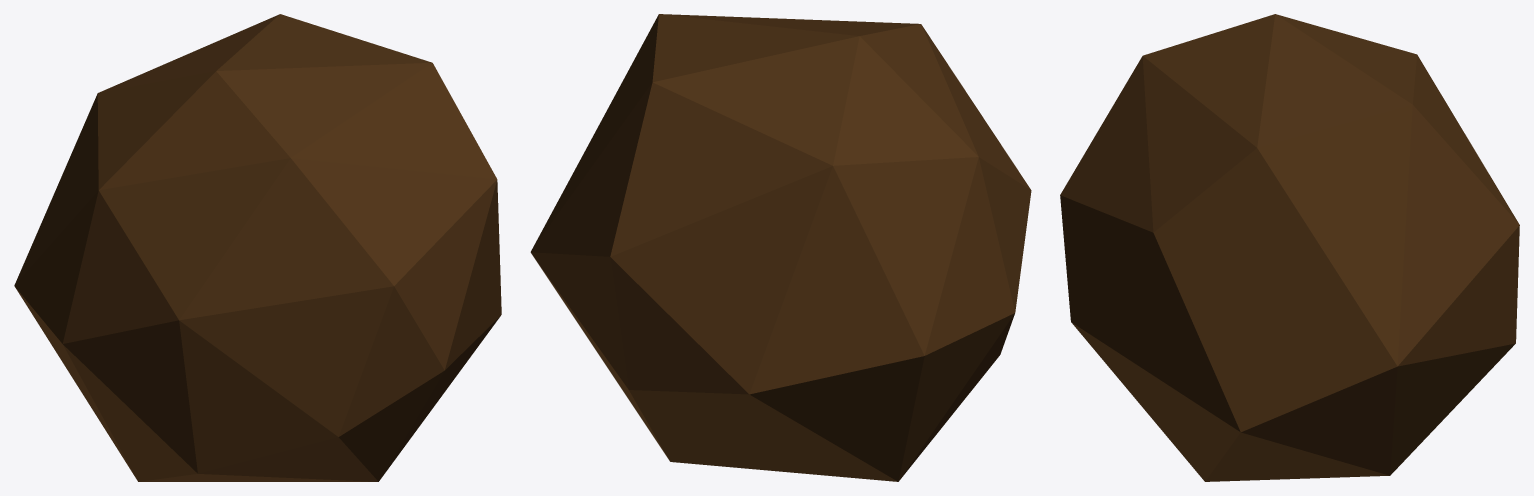
The model's file is asteroid7.fbx.
3 renders of one model, left to right at view 1: azimuth 30°, elevation 25°; view 2: azimuth 150°, elevation 25°; view 3: azimuth 270°, elevation 25°, orthographic. The views are drawn at different scales.
Parts seen in each view (by area): view 1: quickmaterial1; view 2: quickmaterial1; view 3: quickmaterial1.
Boxes of the visible parts, box(x1,y1,x2,y2) form: quickmaterial1: box(14, 14, 501, 481); quickmaterial1: box(530, 14, 1031, 481); quickmaterial1: box(1060, 14, 1519, 481).
Size of the model in its own units: 2.18 by 2.05 by 2.1.
